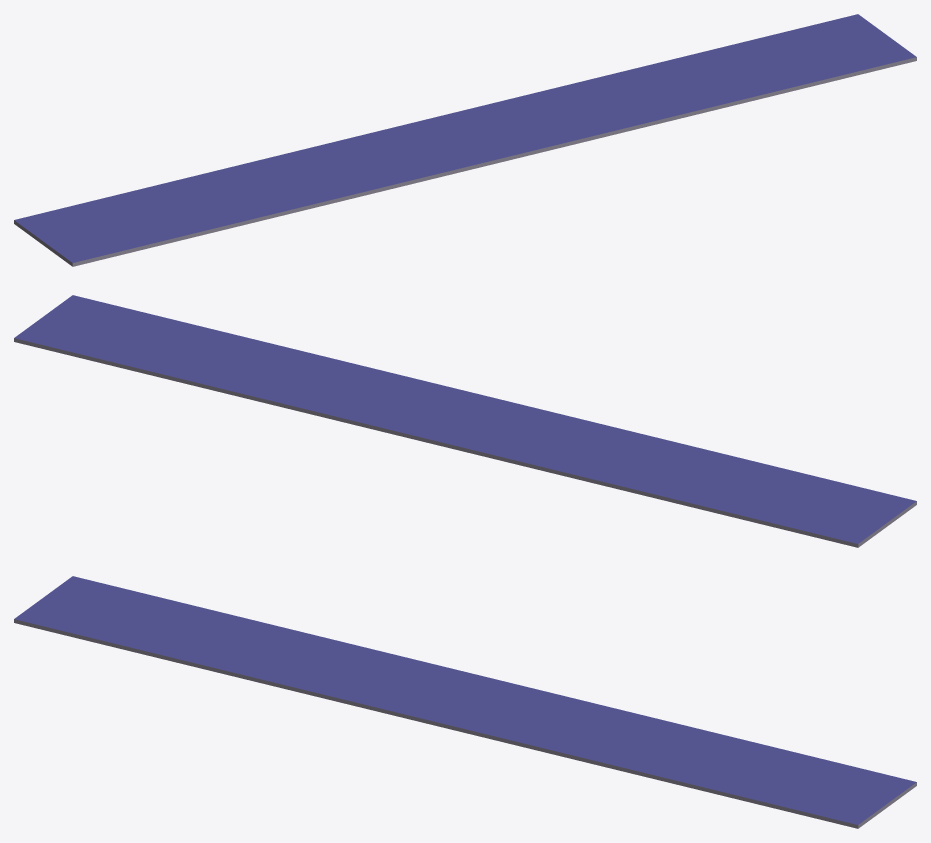
Rendered from PanelSuperior32m.glb.
3 renders of one model, top to bottom at view 1: azimuth 30°, elevation 25°; view 2: azimuth 150°, elevation 25°; view 3: azimuth 330°, elevation 25°, orthographic.
Visible parts, largest first — view 1: Cube; view 2: Cube; view 3: Cube.
Part boxes in pixels (x1,y1,x2,y2): Cube: (14, 14, 916, 266); Cube: (14, 295, 916, 547); Cube: (14, 576, 916, 828).
Size of the model in its own units: 32.01 by 0.3994 by 3.86.
